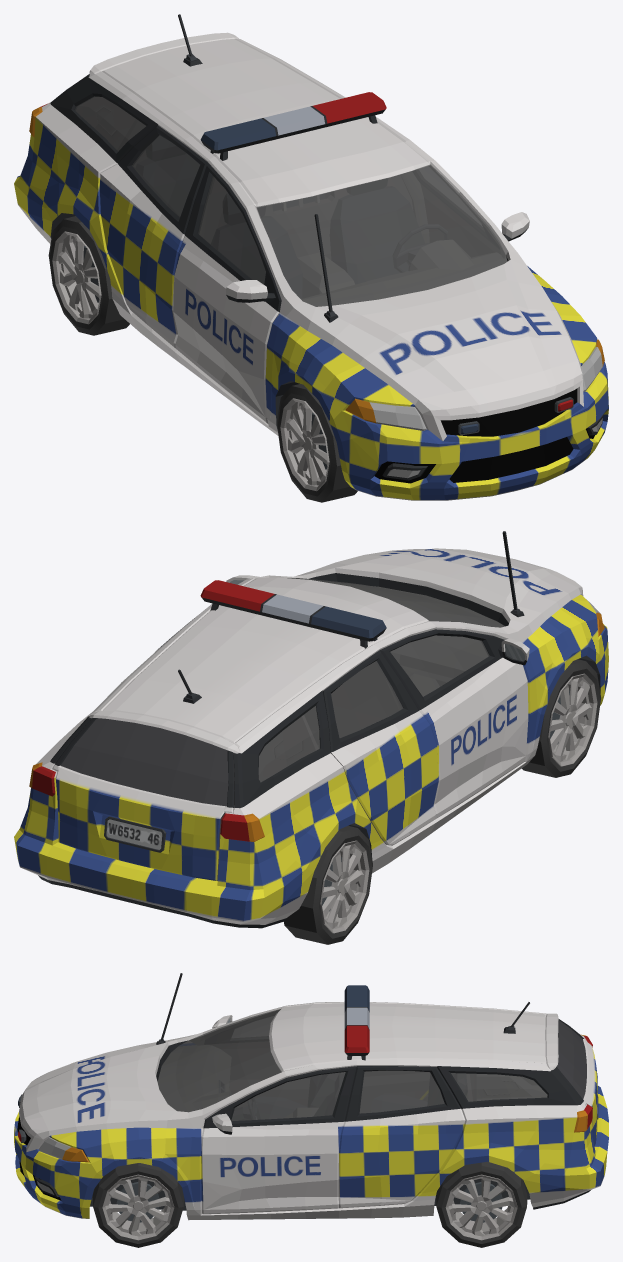
File: SM_Veh_Car_01.fbx
The picture shows the model from 3 angles, top to bottom: view 1: azimuth 30°, elevation 25°; view 2: azimuth 150°, elevation 25°; view 3: azimuth 270°, elevation 25°; orthographic projection. The views are drawn at different scales.
Visible parts, largest first — view 1: SM_Veh_Car_01, SM_Veh_Car_01_Door_FR, SM_Veh_Car_01_Door_RR, SM_Veh_Car_01_Wheel_RR, SM_Veh_Car_01_Wheel_RF, SM_Veh_Car_01_Door_FR_Glass, SM_Veh_Car_01_Door_FL, SM_Veh_Car_01_Door_RR_Glass, SM_Veh_Car_01_Door_Rear, SM_Veh_Car_01_Door_FL_Glass, SM_Veh_Car_01_SteeringW; view 2: SM_Veh_Car_01, SM_Veh_Car_01_Door_Rear, SM_Veh_Car_01_Door_FR, SM_Veh_Car_01_Door_RR, SM_Veh_Car_01_Door_Rear_Glass, SM_Veh_Car_01_Wheel_RR, SM_Veh_Car_01_Wheel_RF, SM_Veh_Car_01_Door_FR_Glass, SM_Veh_Car_01_Door_RR_Glass; view 3: SM_Veh_Car_01, SM_Veh_Car_01_Door_FL, SM_Veh_Car_01_Door_RL, SM_Veh_Car_01_Wheel_LR, SM_Veh_Car_01_Wheel_LF, SM_Veh_Car_01_Door_FL_Glass, SM_Veh_Car_01_Door_FR, SM_Veh_Car_01_Door_RL_Glass, SM_Veh_Car_01_Door_Rear, SM_Veh_Car_01_Door_RR, SM_Veh_Car_01_Door_Rear_Glass, SM_Veh_Car_01_Door_FR_Glass.
Boxes of the visible parts, bbox=[...] form: SM_Veh_Car_01: bbox=[14, 14, 608, 500]; SM_Veh_Car_01_Door_FR: bbox=[173, 163, 281, 423]; SM_Veh_Car_01_Door_RR: bbox=[100, 125, 207, 348]; SM_Veh_Car_01_Wheel_RR: bbox=[48, 216, 129, 335]; SM_Veh_Car_01_Wheel_RF: bbox=[276, 384, 357, 502]; SM_Veh_Car_01_Door_FR_Glass: bbox=[198, 176, 265, 284]; SM_Veh_Car_01_Door_FL: bbox=[412, 170, 529, 257]; SM_Veh_Car_01_Door_RR_Glass: bbox=[132, 135, 199, 216]; SM_Veh_Car_01_Door_Rear: bbox=[76, 32, 238, 149]; SM_Veh_Car_01_Door_FL_Glass: bbox=[416, 166, 483, 229]; SM_Veh_Car_01_SteeringW: bbox=[393, 224, 448, 272]; SM_Veh_Car_01: bbox=[14, 531, 608, 928]; SM_Veh_Car_01_Door_Rear: bbox=[52, 711, 239, 880]; SM_Veh_Car_01_Door_FR: bbox=[380, 629, 529, 819]; SM_Veh_Car_01_Door_RR: bbox=[323, 650, 438, 845]; SM_Veh_Car_01_Door_Rear_Glass: bbox=[61, 718, 228, 806]; SM_Veh_Car_01_Wheel_RR: bbox=[283, 825, 372, 944]; SM_Veh_Car_01_Wheel_RF: bbox=[522, 659, 600, 777]; SM_Veh_Car_01_Door_FR_Glass: bbox=[390, 635, 489, 696]; SM_Veh_Car_01_Door_RR_Glass: bbox=[331, 661, 403, 737]; SM_Veh_Car_01: bbox=[14, 973, 608, 1220]; SM_Veh_Car_01_Door_FL: bbox=[201, 1066, 356, 1214]; SM_Veh_Car_01_Door_RL: bbox=[338, 1066, 465, 1208]; SM_Veh_Car_01_Wheel_LR: bbox=[436, 1161, 527, 1247]; SM_Veh_Car_01_Wheel_LF: bbox=[92, 1163, 183, 1247]; SM_Veh_Car_01_Door_FL_Glass: bbox=[231, 1072, 345, 1121]; SM_Veh_Car_01_Door_FR: bbox=[204, 1015, 309, 1107]; SM_Veh_Car_01_Door_RL_Glass: bbox=[359, 1070, 444, 1113]; SM_Veh_Car_01_Door_Rear: bbox=[545, 1013, 598, 1146]; SM_Veh_Car_01_Door_RR: bbox=[360, 1071, 429, 1112]; SM_Veh_Car_01_Door_Rear_Glass: bbox=[556, 1020, 586, 1099]; SM_Veh_Car_01_Door_FR_Glass: bbox=[231, 1016, 273, 1038].
Size of the model in its own units: 225 by 187 by 511.
